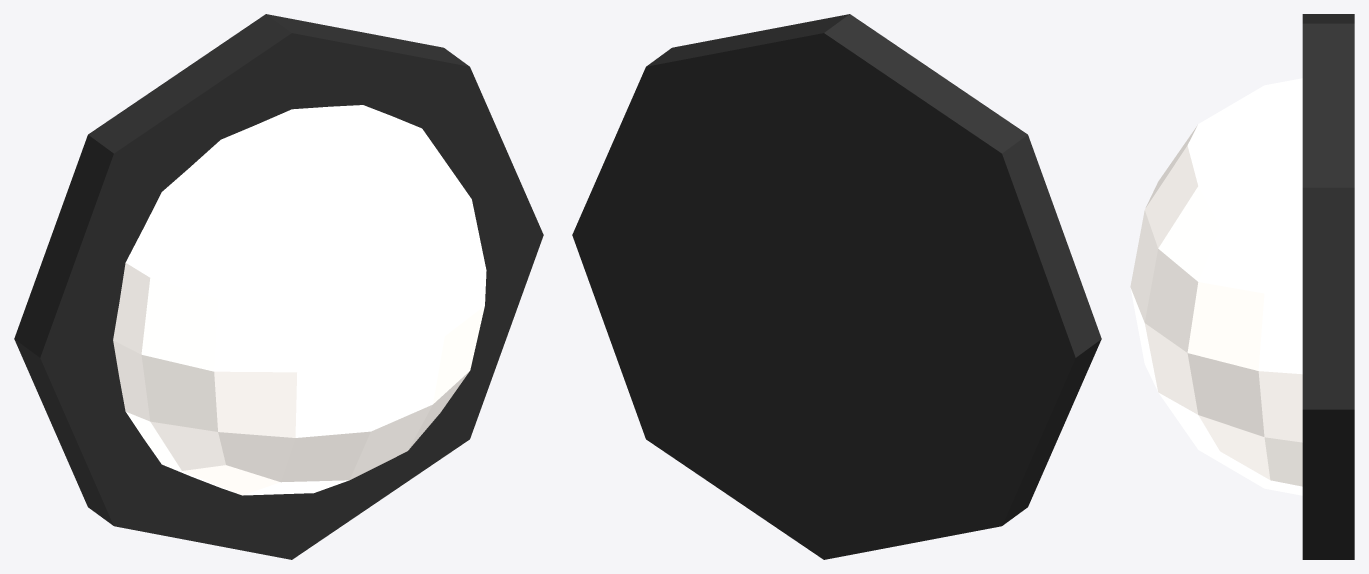
The model's file is LuzBloqueo.fbx.
The picture shows the model from 3 angles, left to right: view 1: azimuth 30°, elevation 25°; view 2: azimuth 150°, elevation 25°; view 3: azimuth 270°, elevation 25°; orthographic projection.
Visible parts, largest first — view 1: LuzBloqueo; view 2: LuzBloqueo; view 3: LuzBloqueo.
Boxes of the visible parts, x1,y1,x2,y2 form: LuzBloqueo: (14, 14, 543, 559); LuzBloqueo: (572, 14, 1101, 559); LuzBloqueo: (1130, 14, 1354, 559).
Size of the model in its own units: 14.43 by 14.43 by 5.57.
